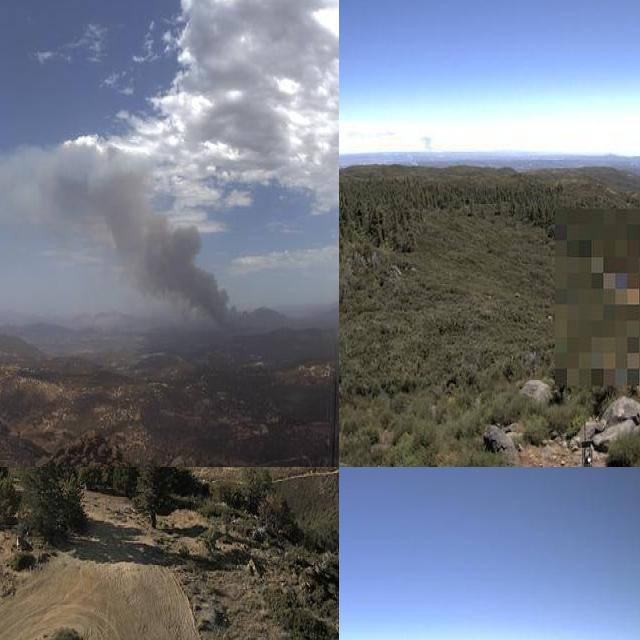smoke: (0, 134, 262, 352), (417, 128, 435, 161)
